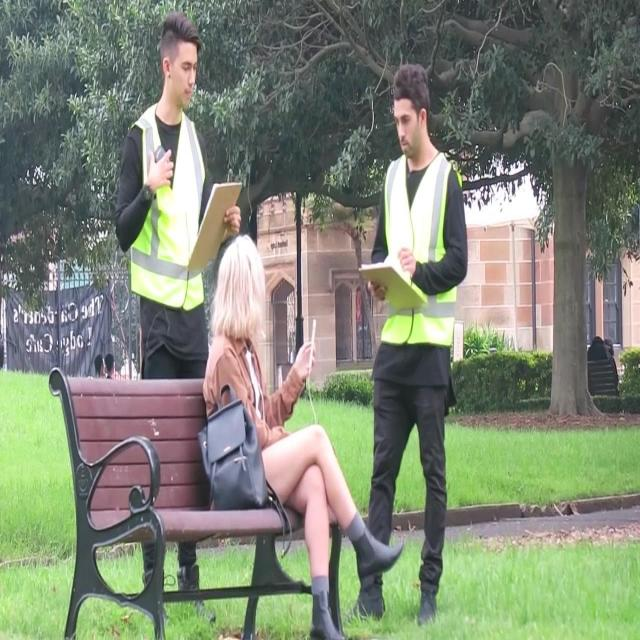Reflective-Jacket: (126, 108, 210, 314), (379, 150, 461, 352)
